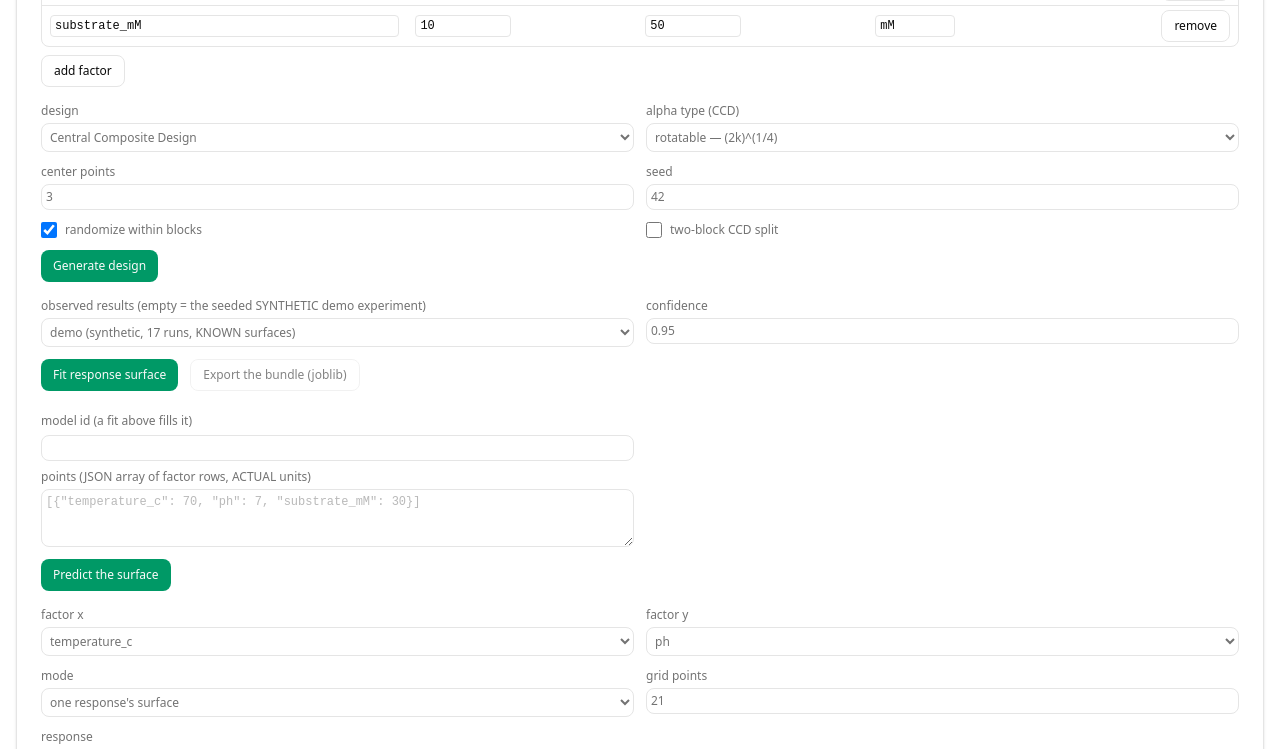
Test: the Experimental Design & Response Surface lane of the Machine Learning workspace › renders the desirability optimisation round trip
(page scrolled)
Click the button "Fit response surface": (110,375) [41, 359, 178, 391]
(page scrolled)
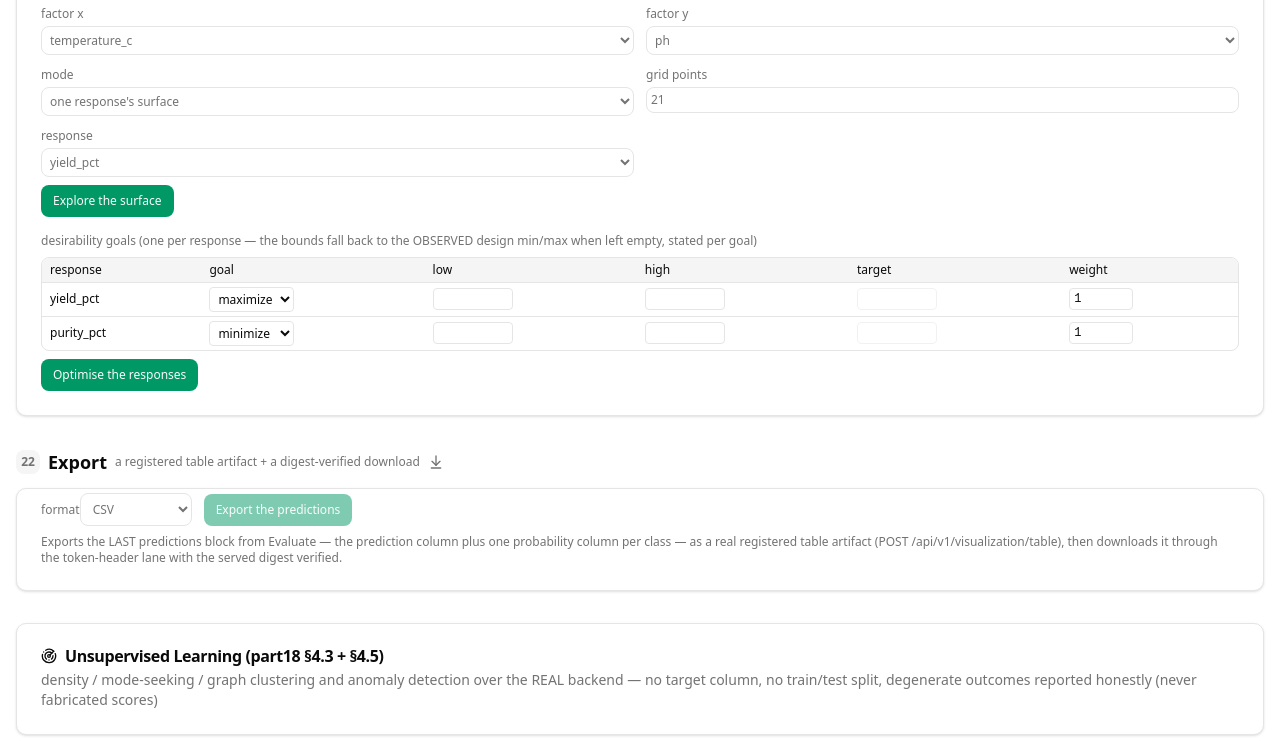
Expected: the dropdown named "rsm goal for yield_pct" shows "maximize", [209, 287, 294, 312]
Expected: the dropdown named "rsm goal for purity_pct" shows "minimize", [209, 321, 294, 346]
Click the button "Optimise the responses": (120,375) [41, 359, 198, 391]
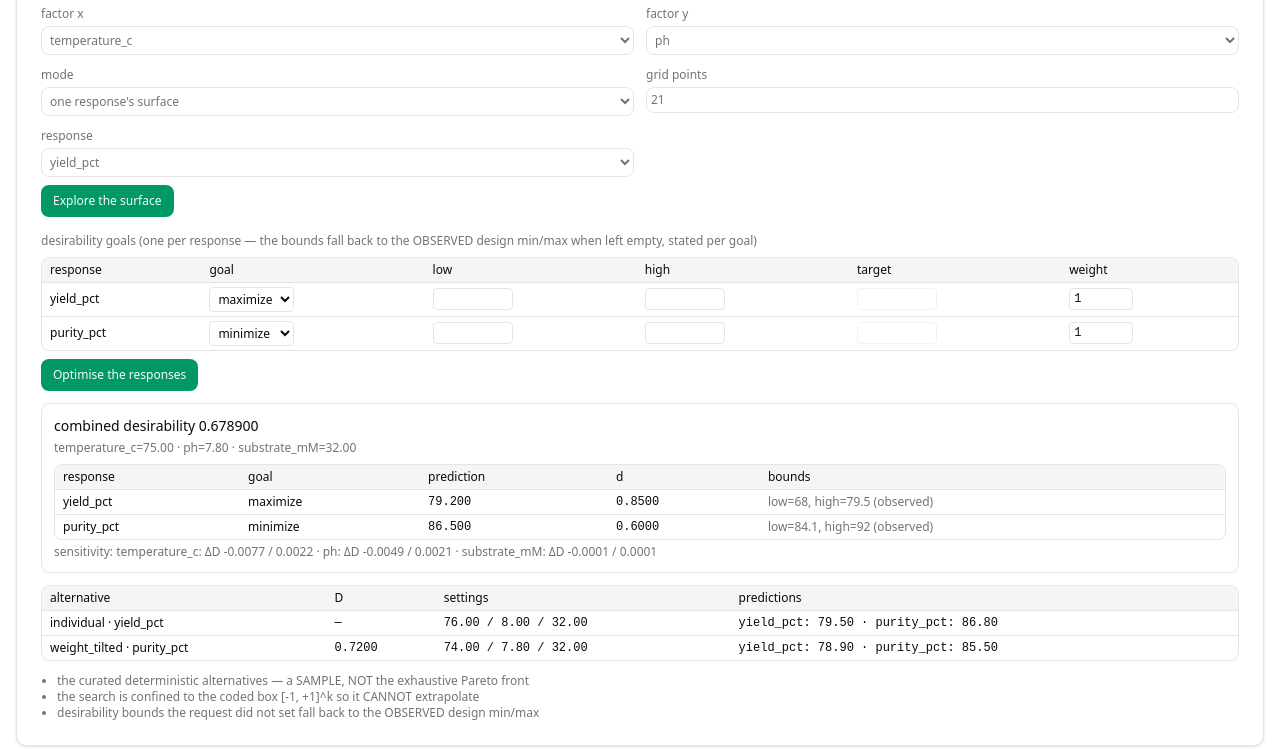
Now the text "combined desirability 0.678900" is shown, box [54, 416, 259, 435]
Now the text "temperature_c=75.00 · ph=7.80 · substrate_mM=32.00" is shown, box [54, 439, 356, 456]
Now the text "0.8500" is shown, box [608, 489, 760, 514]
